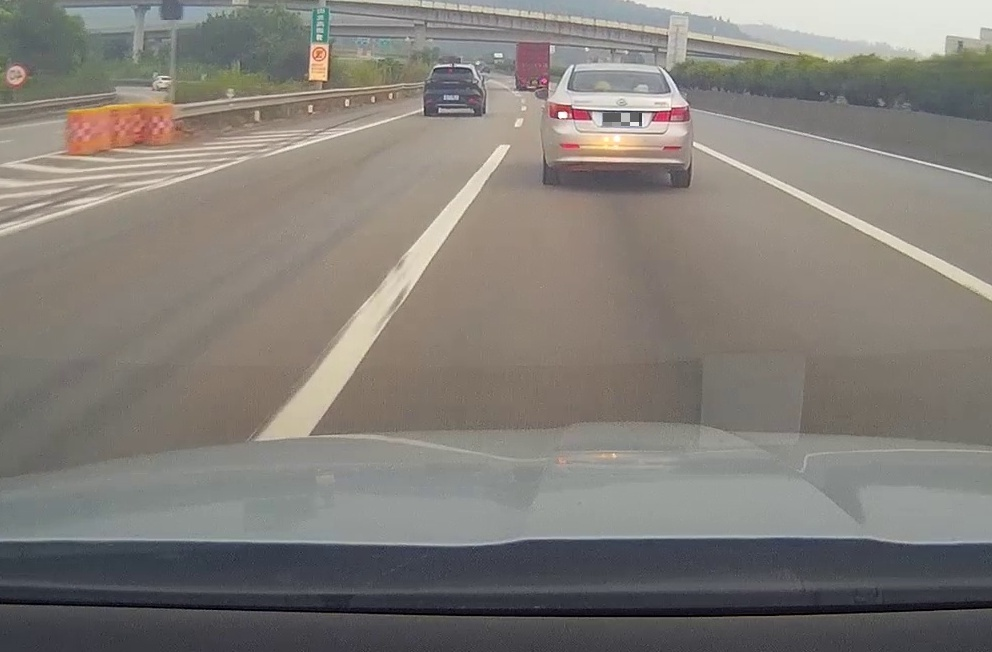L_light: (548, 102, 592, 120), (426, 80, 434, 83)
R_light: (652, 106, 690, 121), (467, 80, 478, 83)
T_light: (612, 72, 628, 75), (449, 68, 457, 70)
day-left: (541, 66, 691, 186)
day-no: (423, 66, 483, 116)
plate_1: (603, 113, 642, 126)
